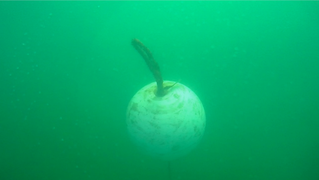buoy: (123, 80, 206, 162)
